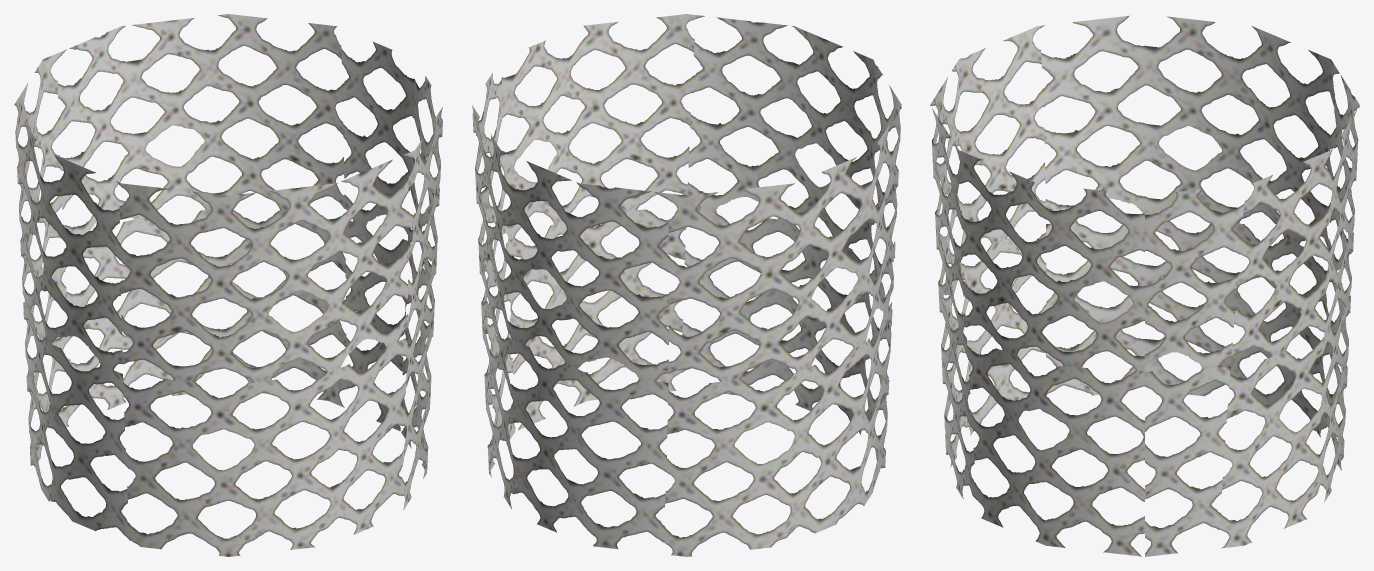
The model's file is BasketNet.fbx.
3 views of the same model, side by side, from view 1: azimuth 30°, elevation 25°; view 2: azimuth 150°, elevation 25°; view 3: azimuth 270°, elevation 25° (orthographic).
Parts seen in each view (by area): view 1: BasketNet; view 2: BasketNet; view 3: BasketNet.
Boxes of the visible parts, left/top/right/bottom form: BasketNet: left=14, top=14, right=442, bottom=556; BasketNet: left=472, top=14, right=901, bottom=556; BasketNet: left=930, top=15, right=1359, bottom=556.
Size of the model in its own units: 0.5073 by 0.4801 by 0.5073.
